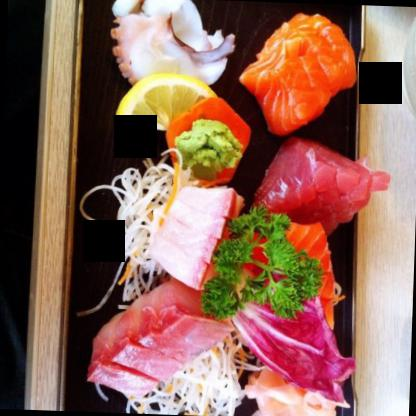salmon: (240, 12, 362, 138)
